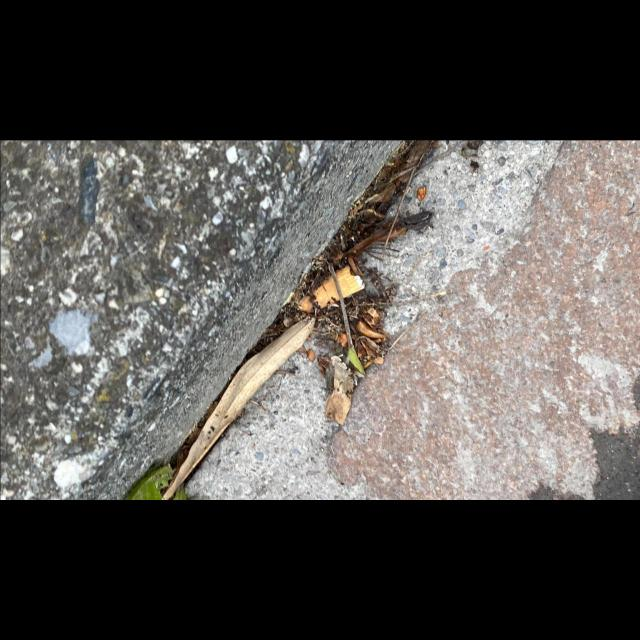cigarette: (298, 264, 366, 314)
